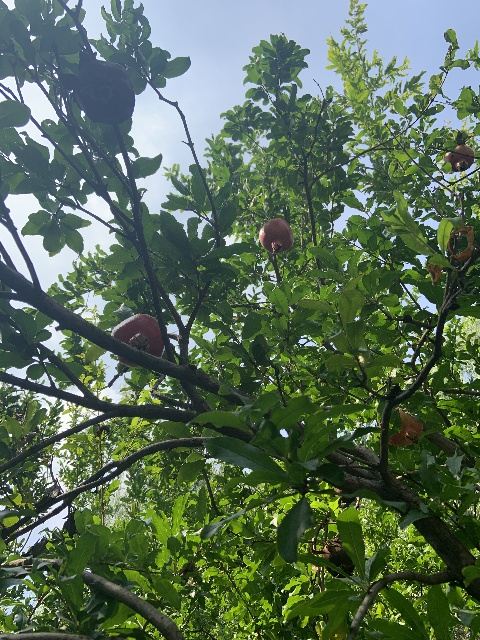ripe: (111, 313, 164, 366), (387, 408, 423, 446), (258, 217, 293, 253), (444, 144, 474, 171)
